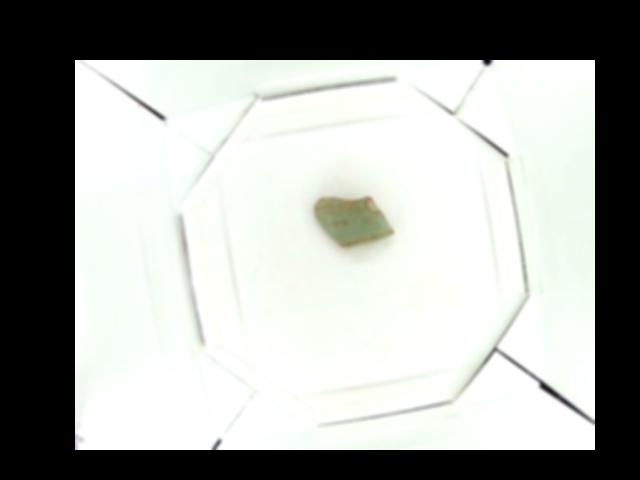China: (313, 190, 395, 250)
